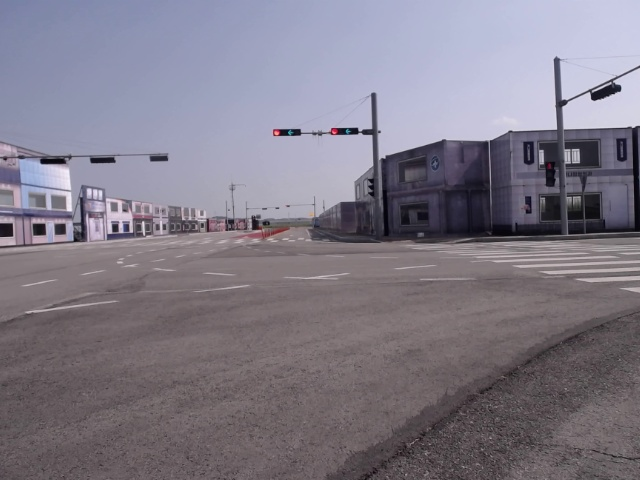left_green_4: (273, 129, 300, 136), (332, 128, 359, 135)
